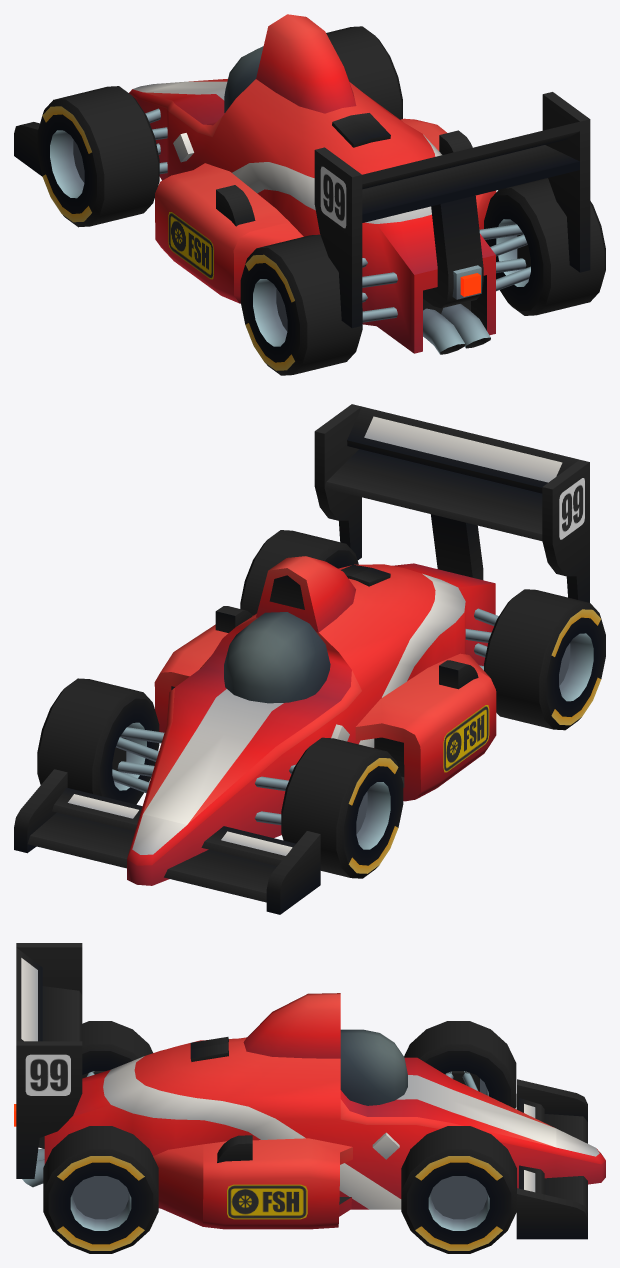
The model's file is ego.glb.
3 views of the same model, one above another, from view 1: azimuth 30°, elevation 25°; view 2: azimuth 150°, elevation 25°; view 3: azimuth 270°, elevation 25° (orthographic). The views are drawn at different scales.
Visible parts, largest first — view 1: ego; view 2: ego; view 3: ego.
Boxes of the visible parts, x1=… form: ego: x1=14, y1=14, x2=605, y2=375; ego: x1=14, y1=404, x2=605, y2=914; ego: x1=14, y1=943, x2=605, y2=1253.
Bounding box in the file's own units: 2.27 × 1.57 × 4.31.
2 materials, 2 textured.
